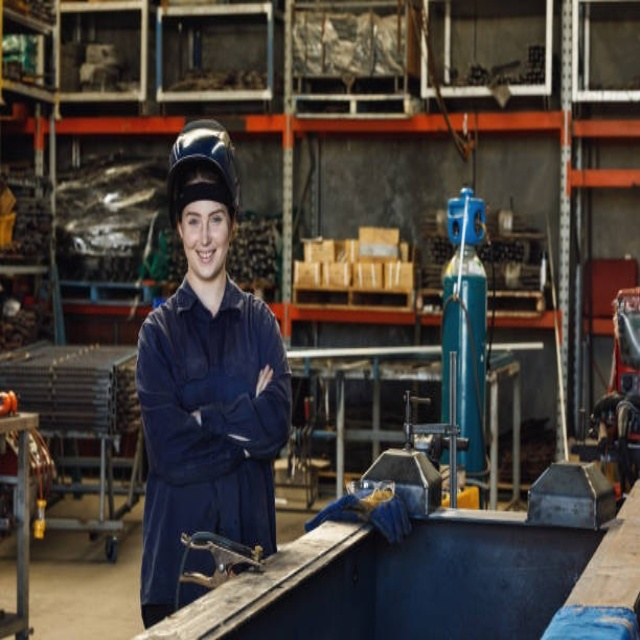Sin_gafas: (183, 207, 228, 237)
Sin_mascara: (192, 243, 220, 276)
